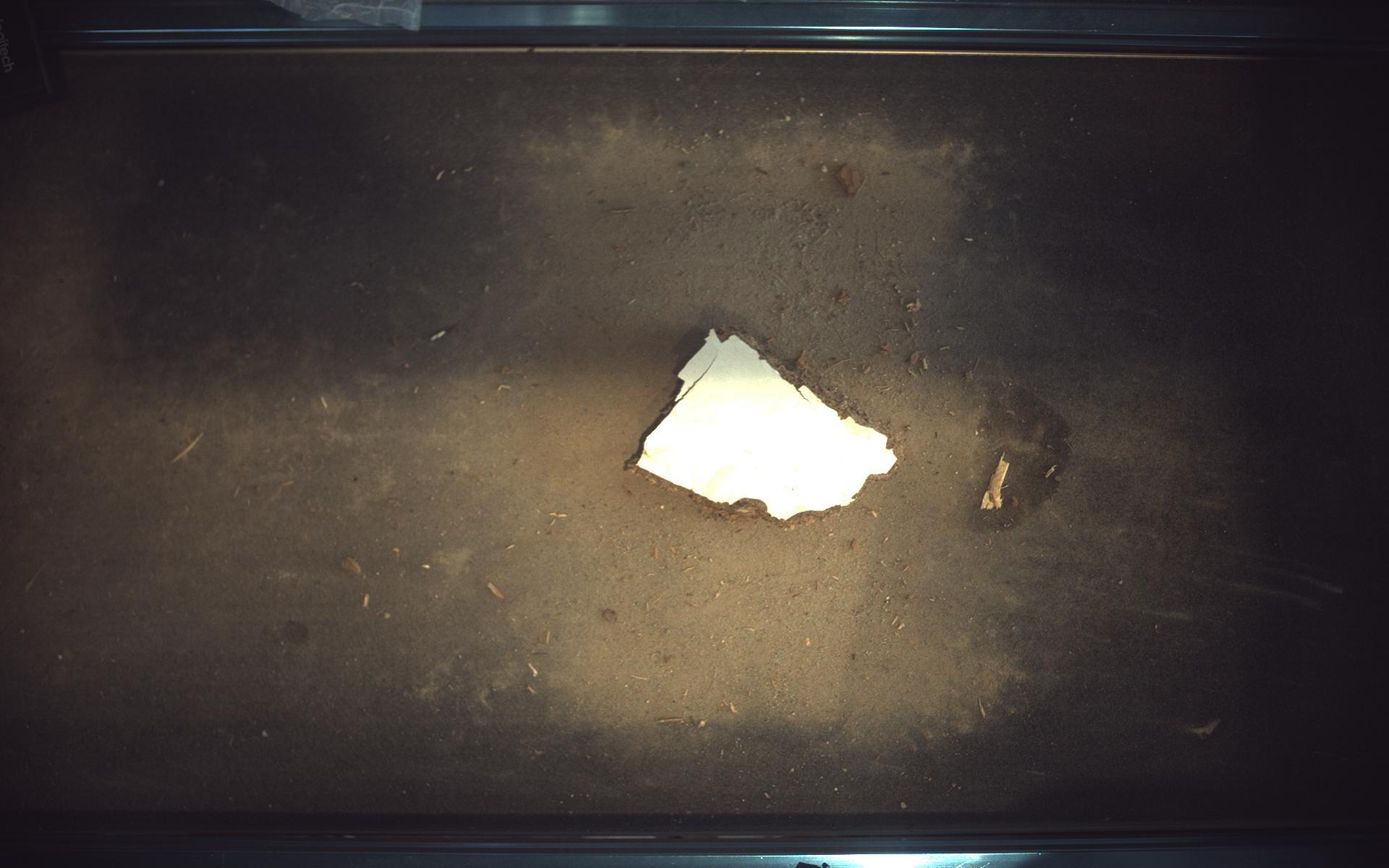wood: (632, 328, 899, 527)
